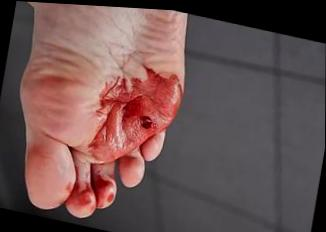Fire: (88, 66, 183, 163), (66, 167, 116, 217)
